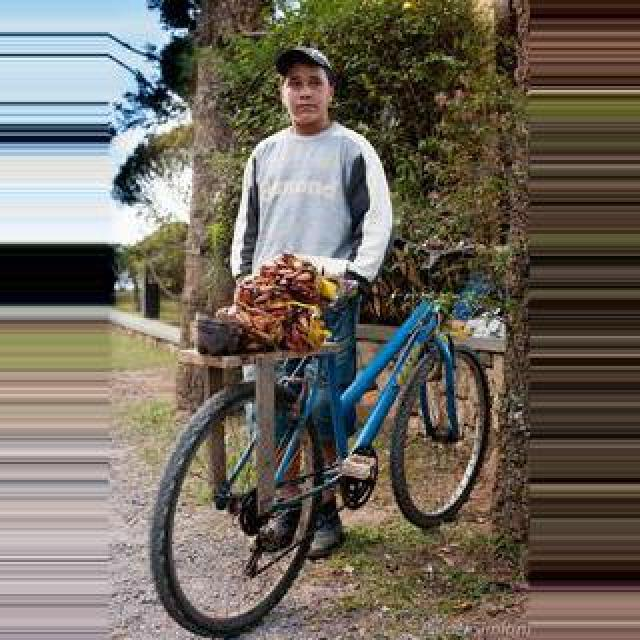MC-Bike: (216, 40, 396, 596)
Person: (141, 241, 495, 635)
